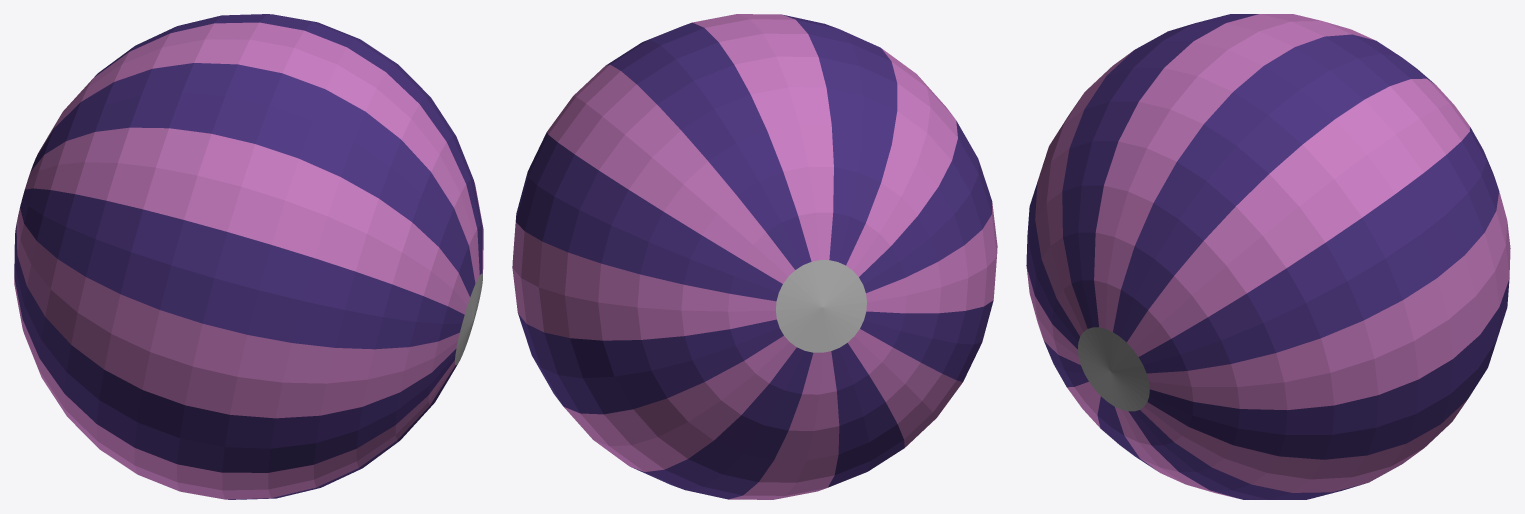
Rendered from ball_pink_lilac.fbx.
3 views of the same model, side by side, from view 1: azimuth 30°, elevation 25°; view 2: azimuth 150°, elevation 25°; view 3: azimuth 270°, elevation 25° (orthographic).
Visible parts, largest first — view 1: Sphere; view 2: Sphere; view 3: Sphere.
Boxes of the visible parts, <box> form: Sphere: <box>14,14,483,499</box>; Sphere: <box>512,14,997,499</box>; Sphere: <box>1026,14,1510,499</box>.
Bounding box in the file's own units: 54.47 × 55.57 × 54.48.
